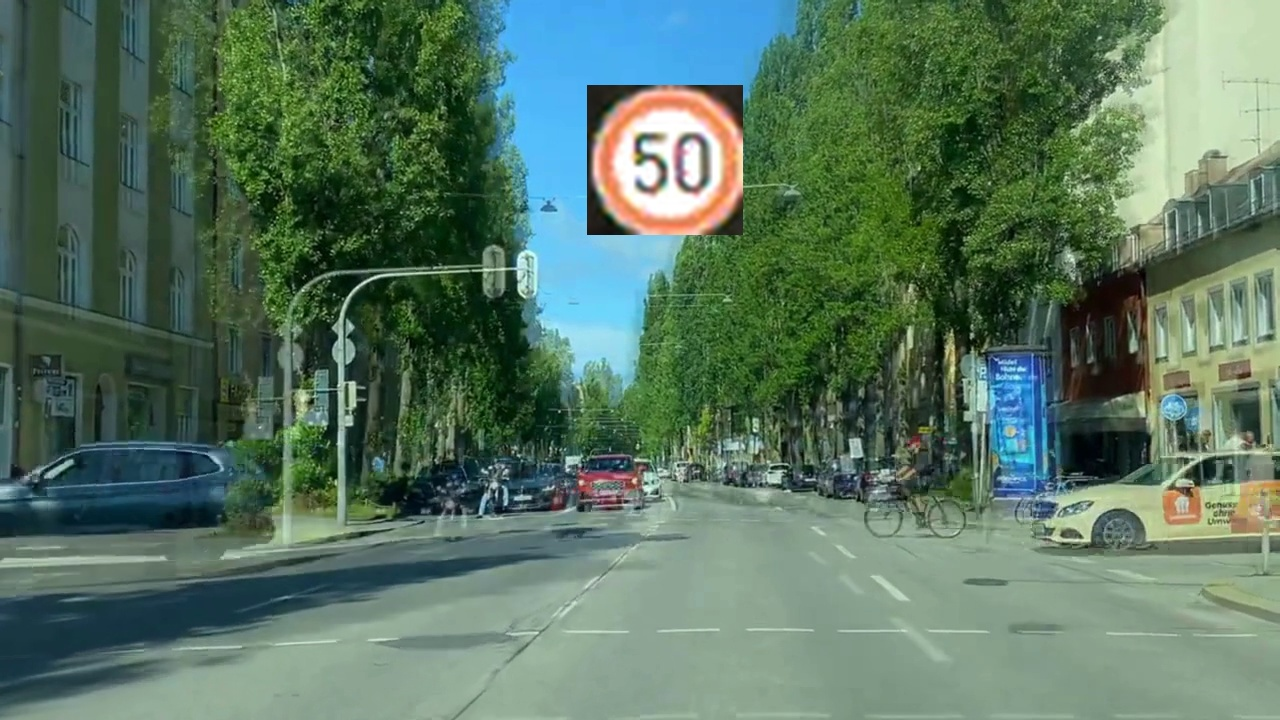Speed 50: (587, 85, 743, 235)
